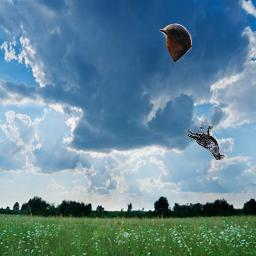Crow: (185, 124, 225, 160)
Swallow: (159, 23, 192, 62)
